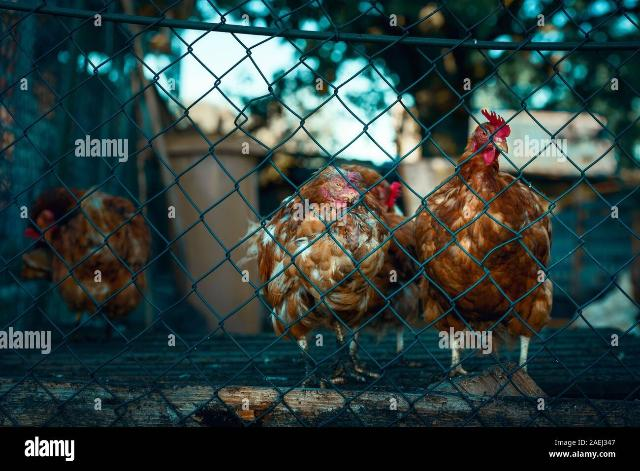Chicken: (416, 108, 553, 380), (252, 164, 416, 389), (28, 182, 150, 317)
